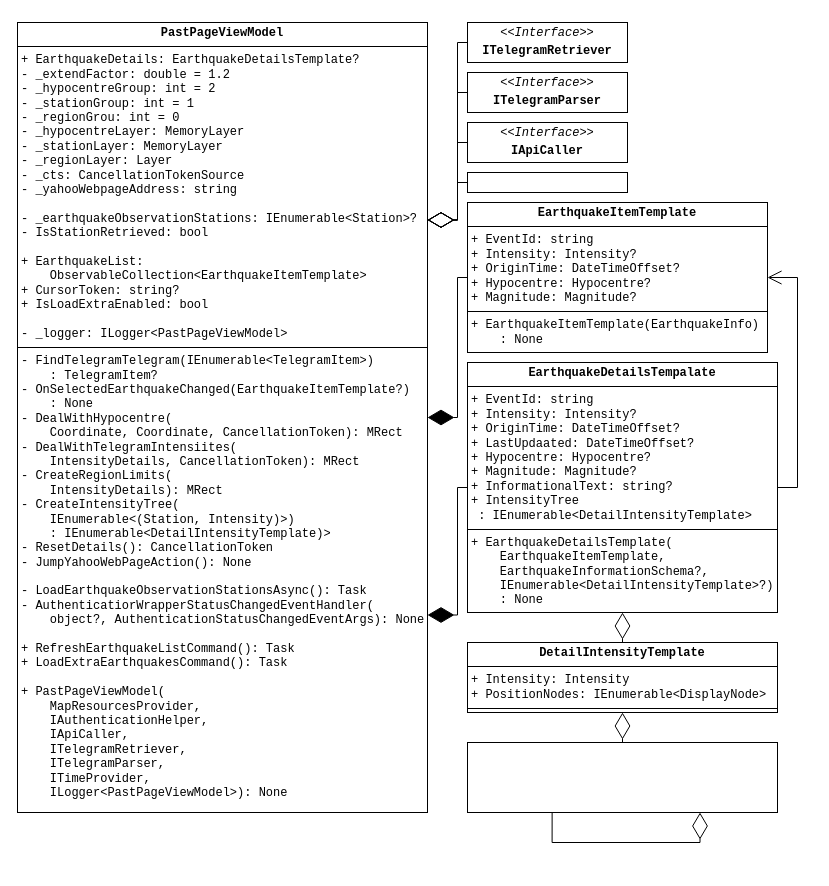
Image size: 829x886. Some labels were removed from this diagram. Each missing label, with the centre of its shape:
"DisplayNode + Name: string + SubNodes: IEnumerable<DisplayNode>" belongs at pixel 622 777.
"MapResourcesProvider" belongs at pixel 547 182.
